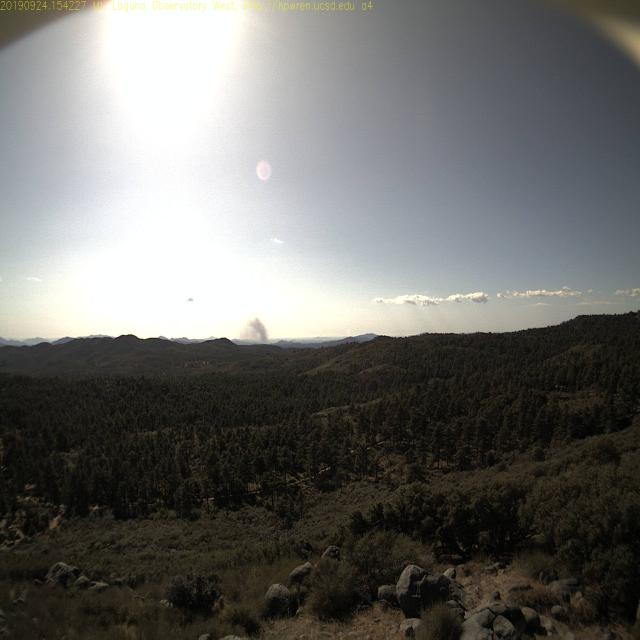smoke: (242, 314, 276, 358)
